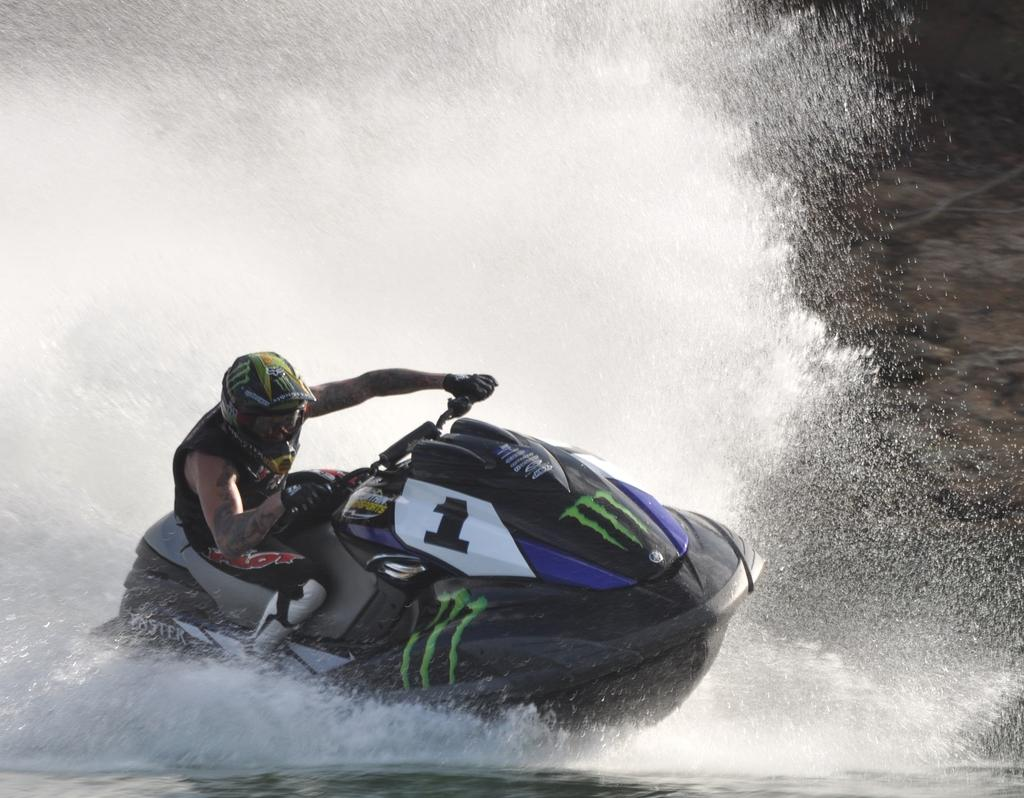helmet: (220, 351, 318, 474)
